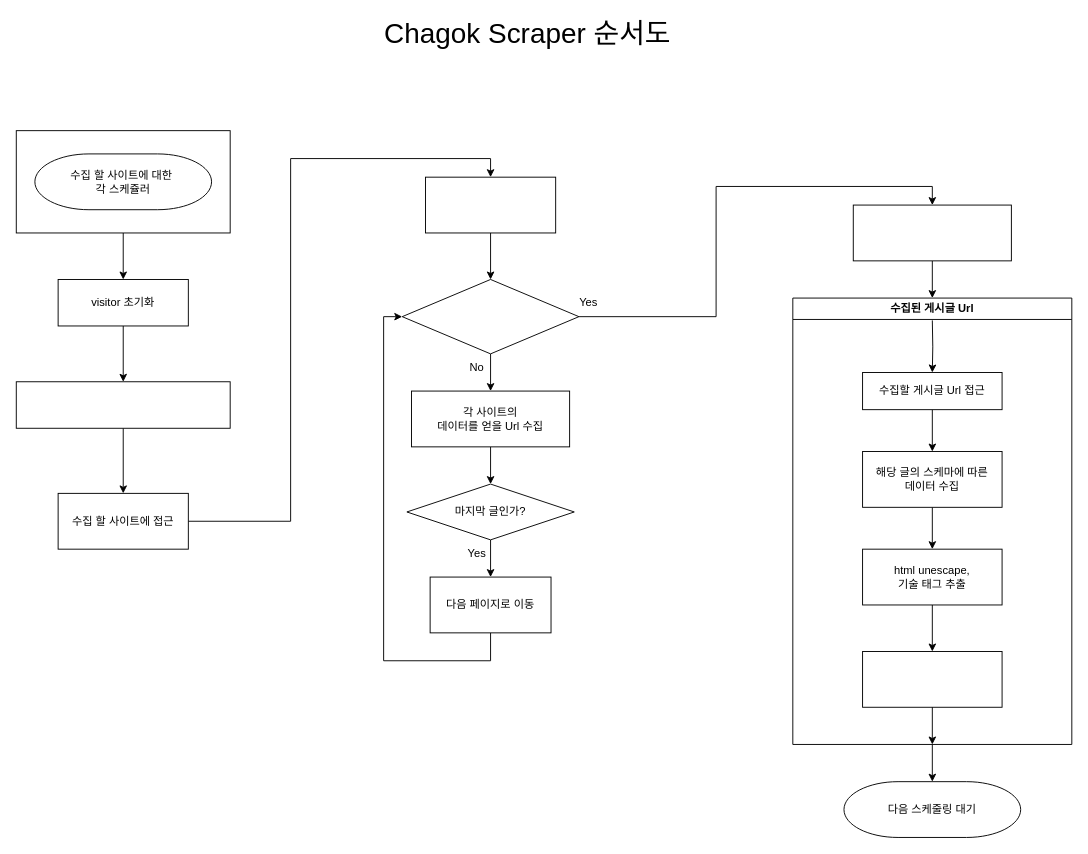
This 1088x854 diagram has some shape labels left out. The centre of each missing label's shape, as x and y in pixels:
"DB 저장" goes at [932,679].
"글 목록 요소 획득" goes at [490,204].
"데이터 베이스에서 최신글의 개시일 or 개시글 id 획득" goes at [122,404].
"수집해야 할 Url 리스트 반환" goes at [931,232].
"해당 글이 이미 방문(수집)한 글 인가?" goes at [490,316].
